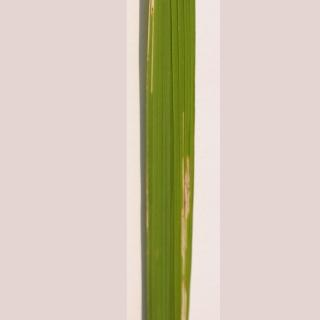Hawar-Daun: (141, 3, 163, 232), (172, 143, 195, 320)
